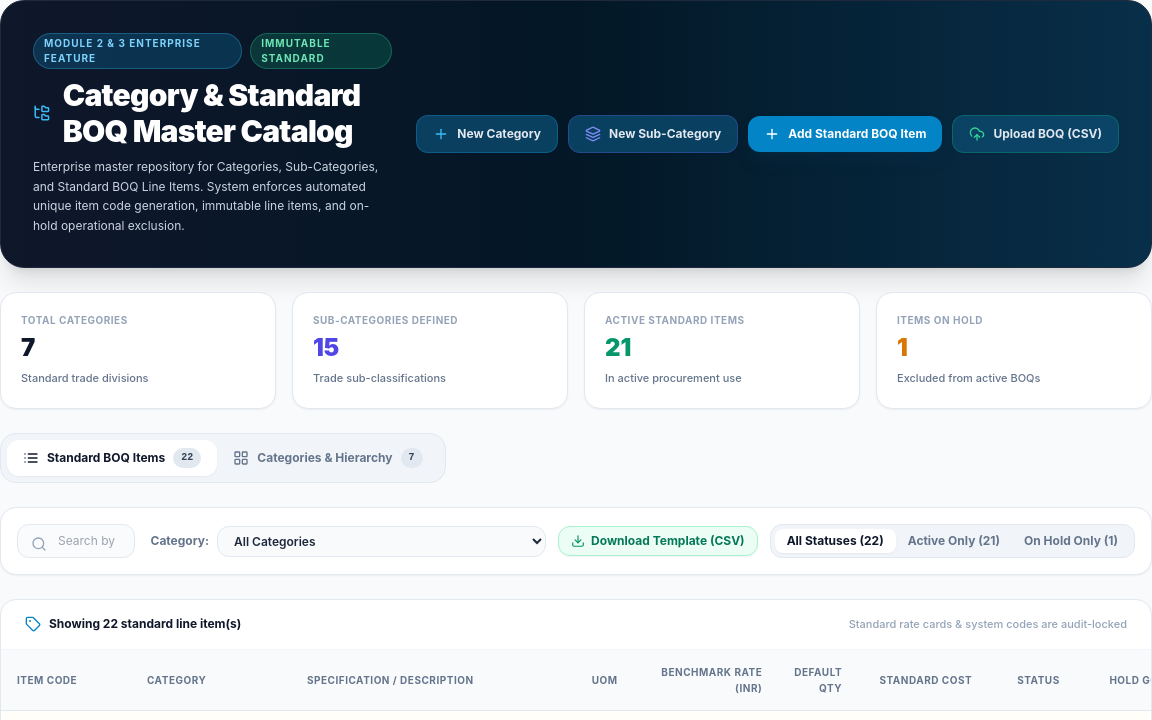
CategoryStandardBOQMaster & Master Catalog Governance › adds a new Sub-Category through AddSubCategoryModal
Click the button "New Sub-Category".
click(653, 134)  # box [568,115,738,153]
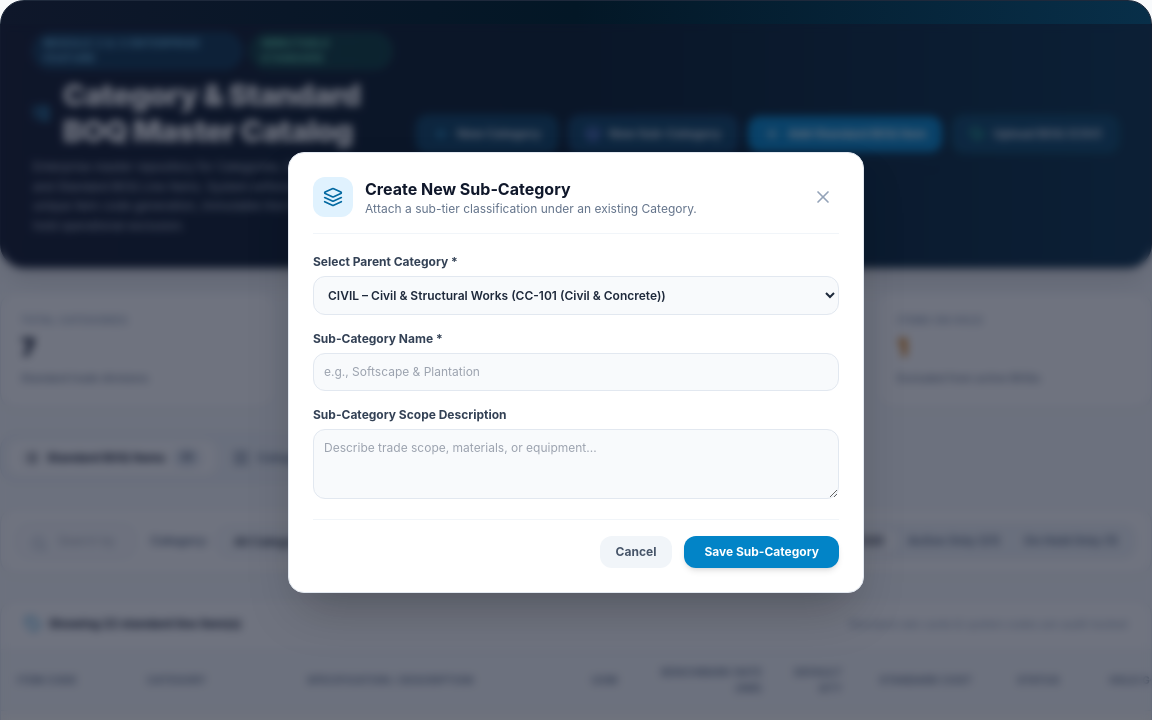
Now the heading "Create New Sub-Category" is shown, box [365,178,570,198]
Type "Inverter Systems" into the field with placeholder "e.g., Softscape & Plantation".
click(576, 372); type("Inverter Systems")  # box [313,352,839,390]
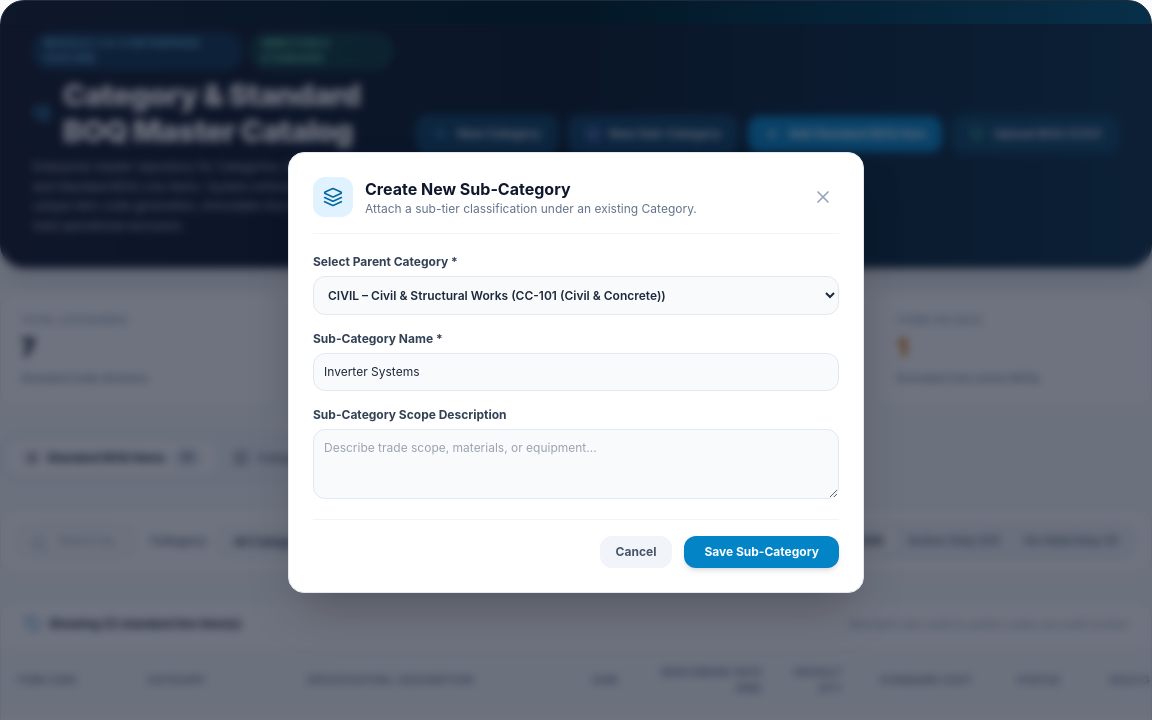
Type "Three phase solar inverters" into the text box with placeholder "Describe trade scope, materials, or equipment...".
click(576, 464); type("Three phase solar inverters")  # box [313,428,839,498]
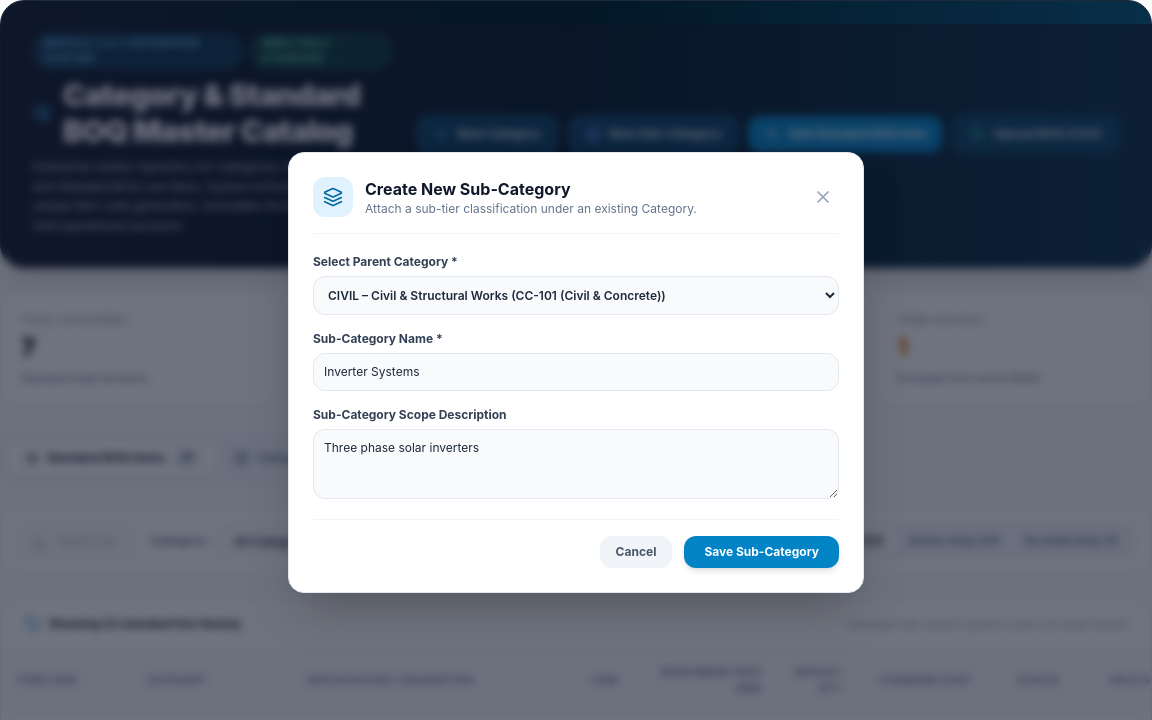
Click the button "Save Sub-Category".
click(762, 552)  # box [684,536,839,568]
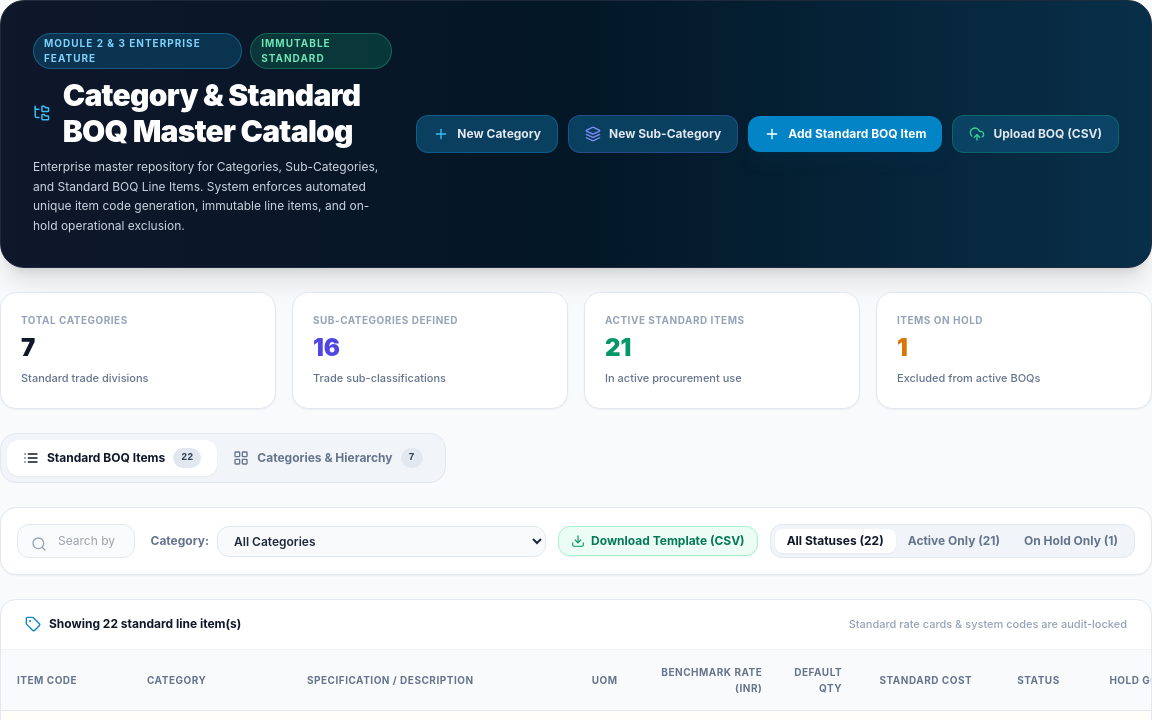
Now the heading "Create New Sub-Category" is gone
